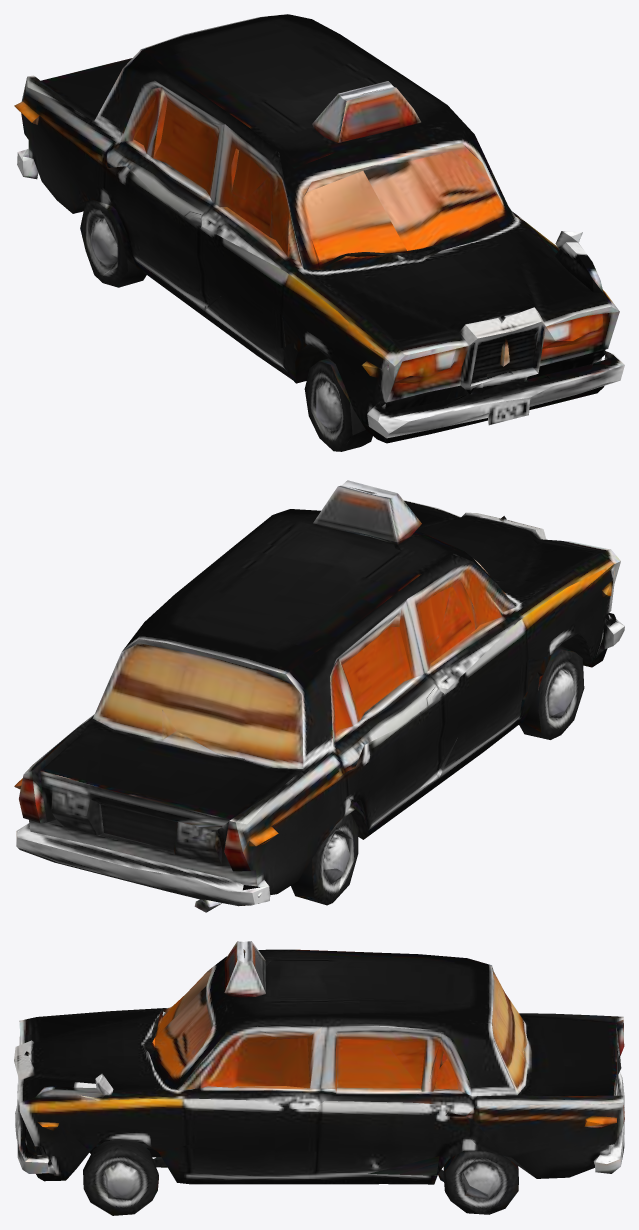
Rendered from taxi_black.glb.
The picture shows the model from 3 angles, top to bottom: view 1: azimuth 30°, elevation 25°; view 2: azimuth 150°, elevation 25°; view 3: azimuth 270°, elevation 25°; orthographic projection. The views are drawn at different scales.
Visible parts, largest first — view 1: taxi_black; view 2: taxi_black; view 3: taxi_black.
Part boxes in pixels (left/top/right/bottom): taxi_black: left=14, top=14, right=624, bottom=451; taxi_black: left=14, top=480, right=624, bottom=912; taxi_black: left=14, top=941, right=624, bottom=1215.
Bounding box in the file's own units: 1.77 × 1.88 × 4.7.
1 material, 1 textured.
